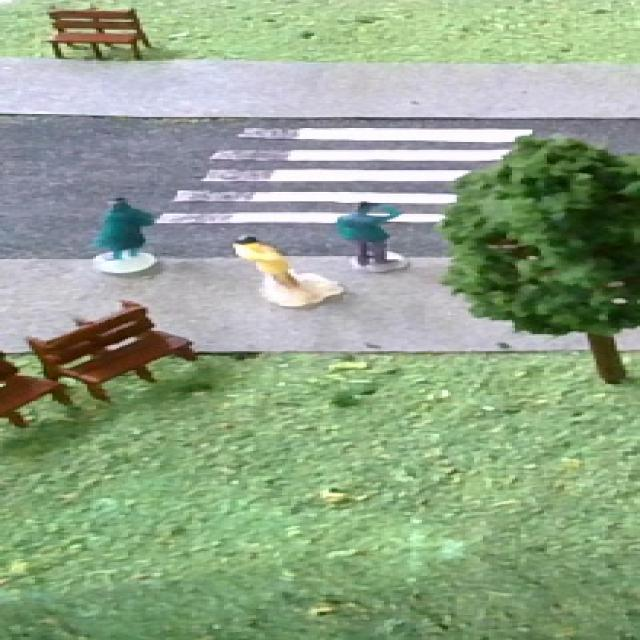person: (226, 228, 328, 308), (80, 189, 170, 270), (332, 191, 417, 276)
